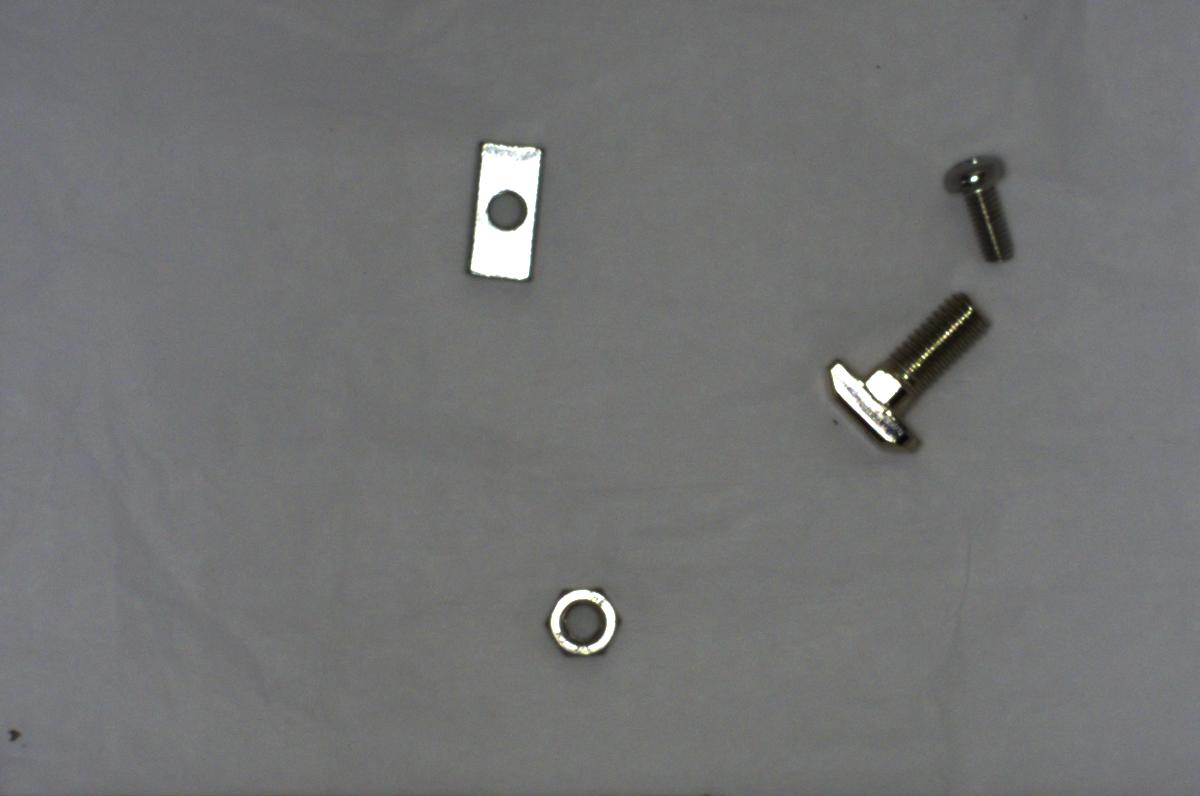Hexagon nut: (530, 578, 627, 661)
Rectangular nut: (460, 136, 542, 283)
Round head screw: (931, 146, 1040, 273)
T-shaped screw: (814, 288, 997, 454)
